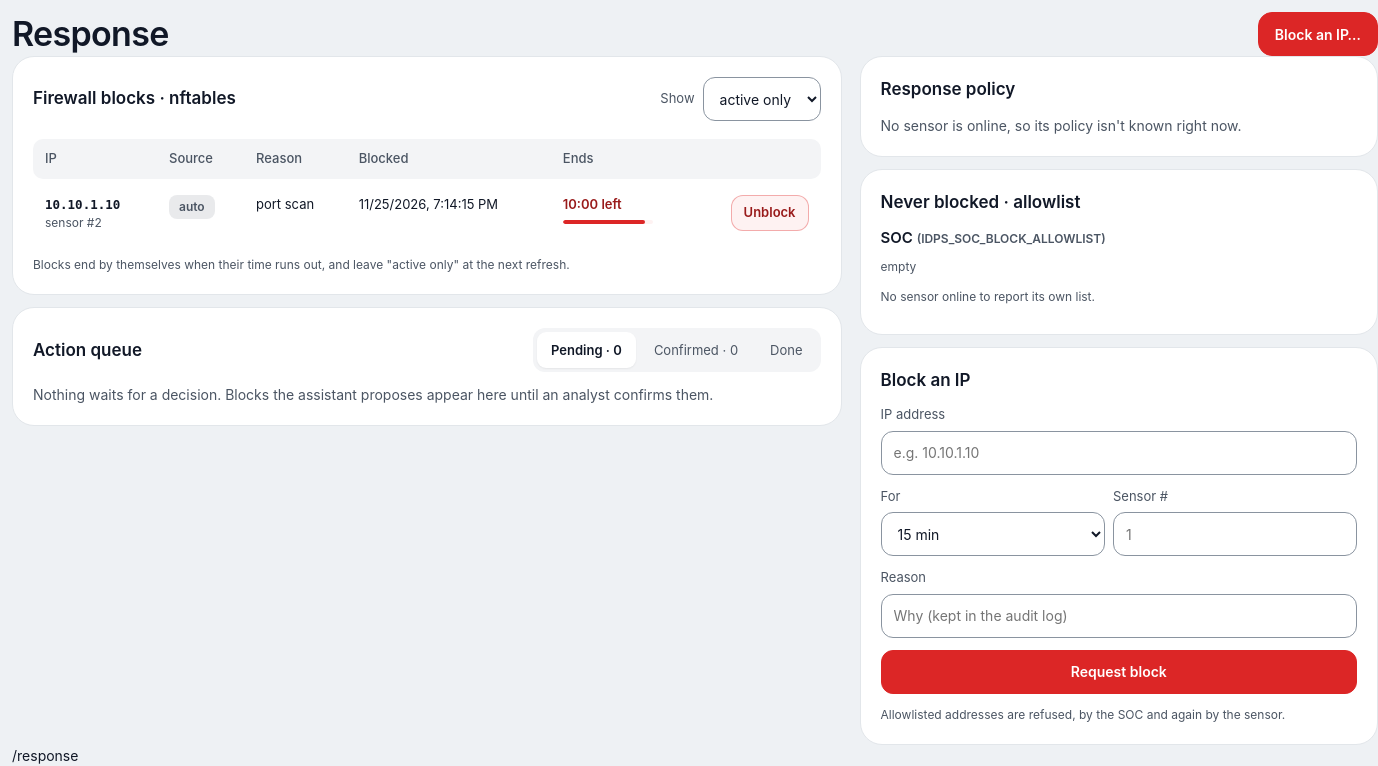
Test case: unblock › posts unblock_ip and reloads all four lists
The width and height of the screenshot is (1378, 766).
Click the button with aria-label "Unblock 10.10.1.10" at x=770, y=212, box [731,194,808,230]
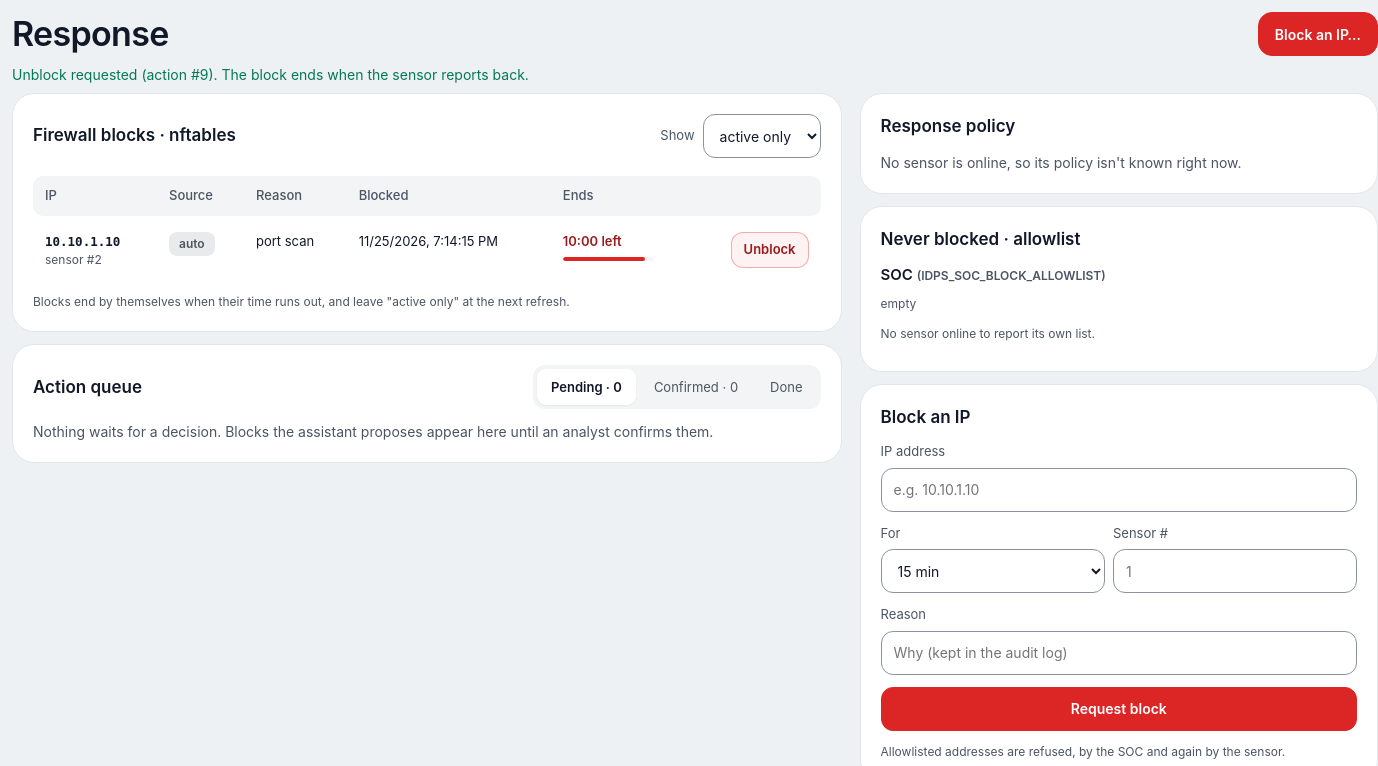
Expected: the message shows "Unblock requested (action #9", [12,66,529,83]
